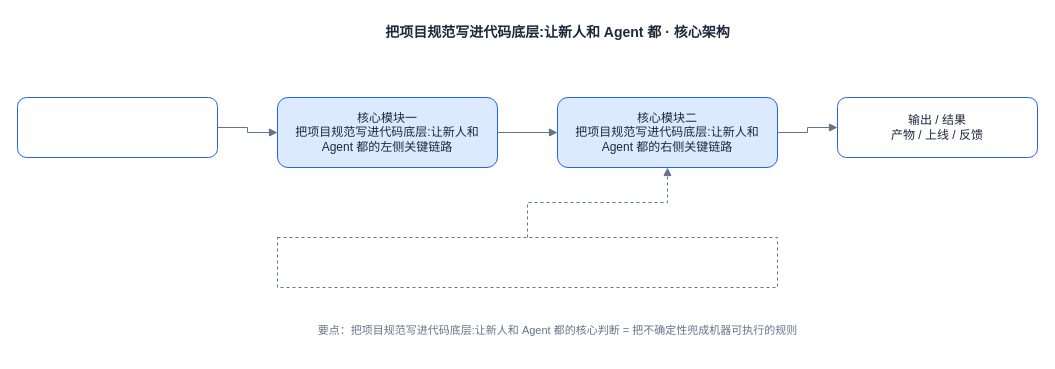
Image size: 1055x369. Some labels were removed from this diagram. The shapes that lost their labels are listed below. From the top down, each one's centre as x and y in pixels, then its label:
At [117,127]: "输入层 需求 / 数据 / 上游调用".
At [527,262]: "兜底层 质量 / 安全 / 监控 / 评审".
